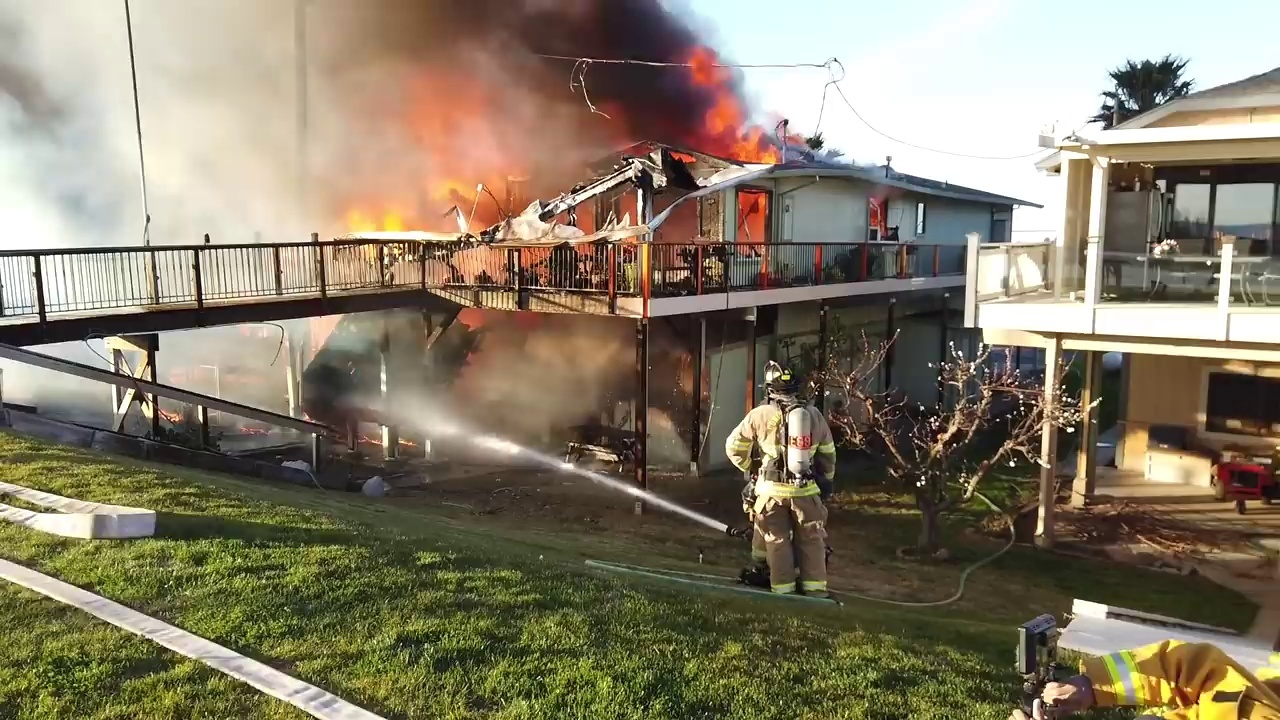fire: (703, 53, 785, 164), (341, 202, 430, 239), (775, 115, 808, 142)
smoke: (1, 1, 702, 184), (332, 299, 642, 443), (1, 187, 341, 241), (172, 330, 330, 417), (3, 361, 117, 425), (853, 155, 909, 198)
